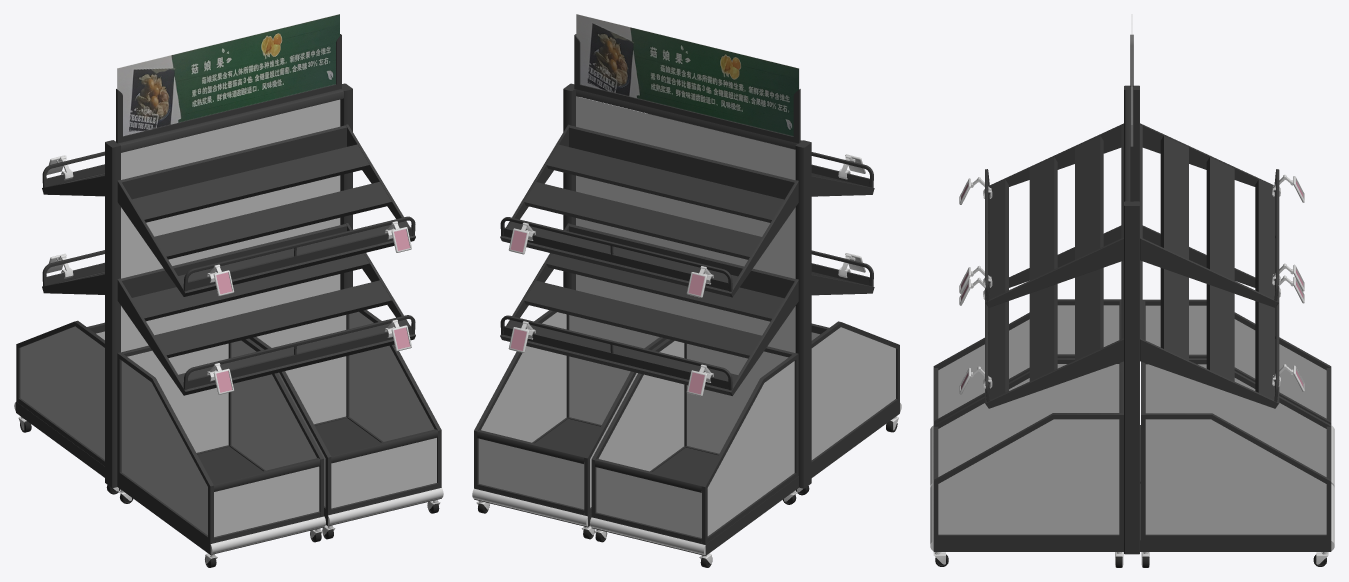
The model's file is SM_水果柜001.fbx.
The picture shows the model from 3 angles, left to right: view 1: azimuth 30°, elevation 25°; view 2: azimuth 150°, elevation 25°; view 3: azimuth 270°, elevation 25°; orthographic projection. The views are drawn at different scales.
Parts seen in each view (by area): view 1: SM_水果柜001; view 2: SM_水果柜001; view 3: SM_水果柜001.
Boxes of the visible parts, x1=… form: SM_水果柜001: x1=14, y1=14, x2=443, y2=567; SM_水果柜001: x1=472, y1=14, x2=901, y2=567; SM_水果柜001: x1=930, y1=14, x2=1334, y2=567.
Bounding box in the file's own units: 107 × 183 × 152.
